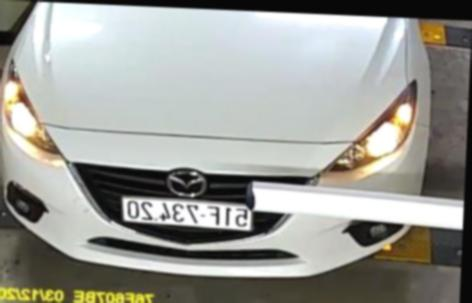License_Plate: (117, 194, 259, 231)
